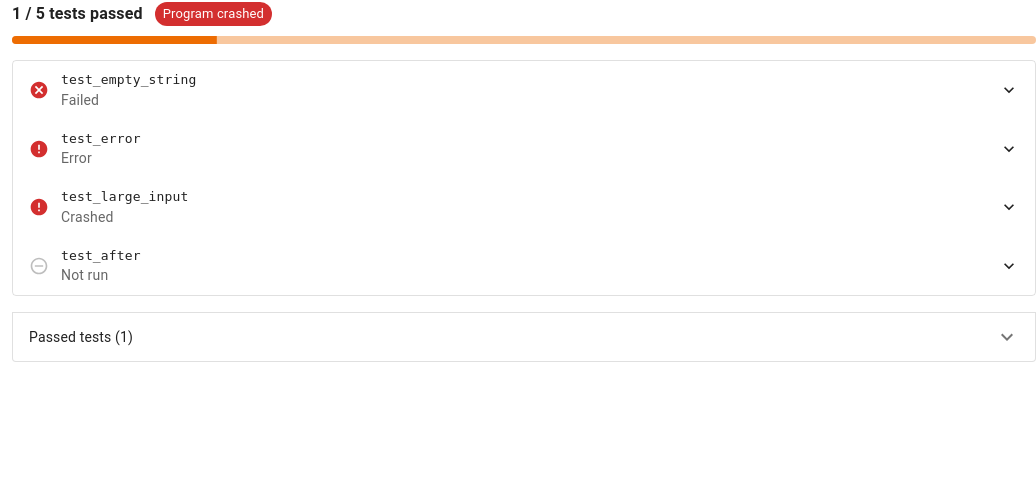
TestReportView › explains crashed, error and not-run tests
Click the text "test_large_input".
click(125, 197)  # box [61,189,188,204]
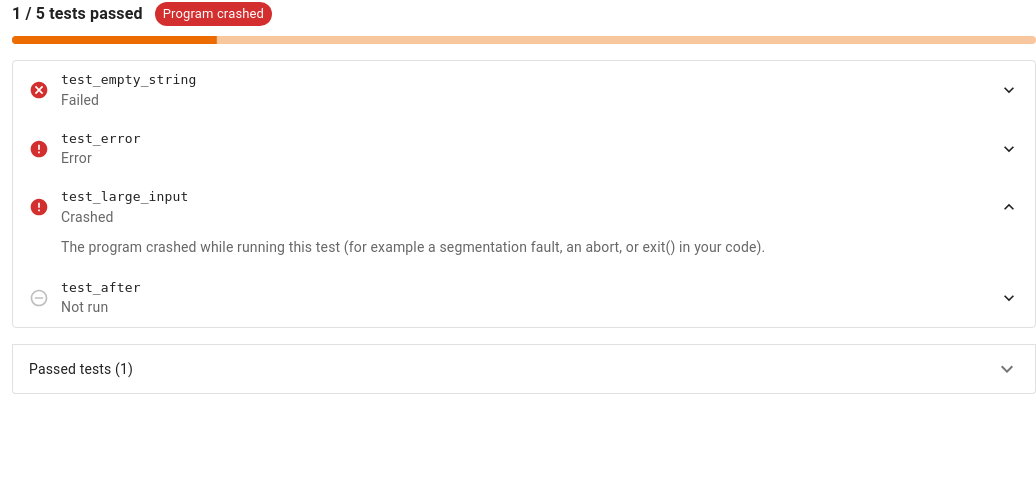
Click the text "test_after".
click(101, 287)  # box [61,280,141,295]
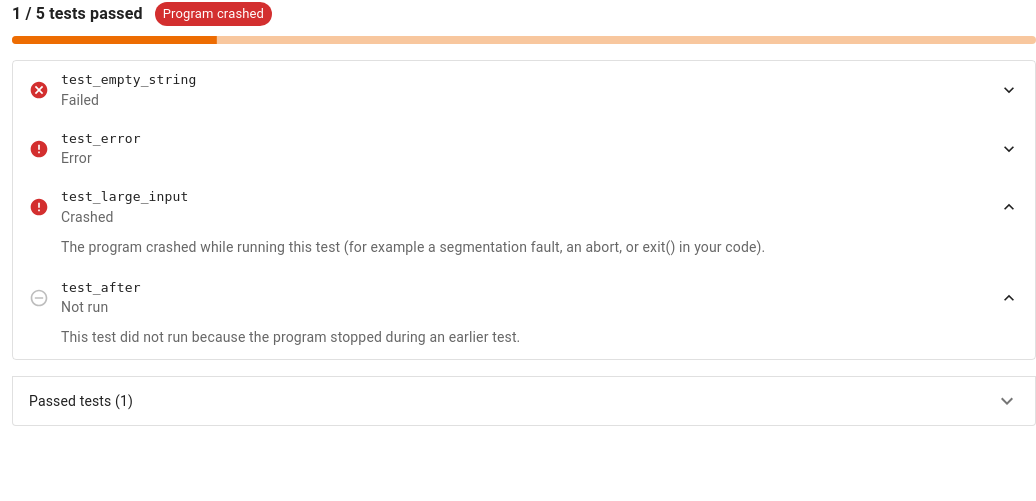
Click the text "test_error".
click(101, 138)  # box [61,131,141,146]
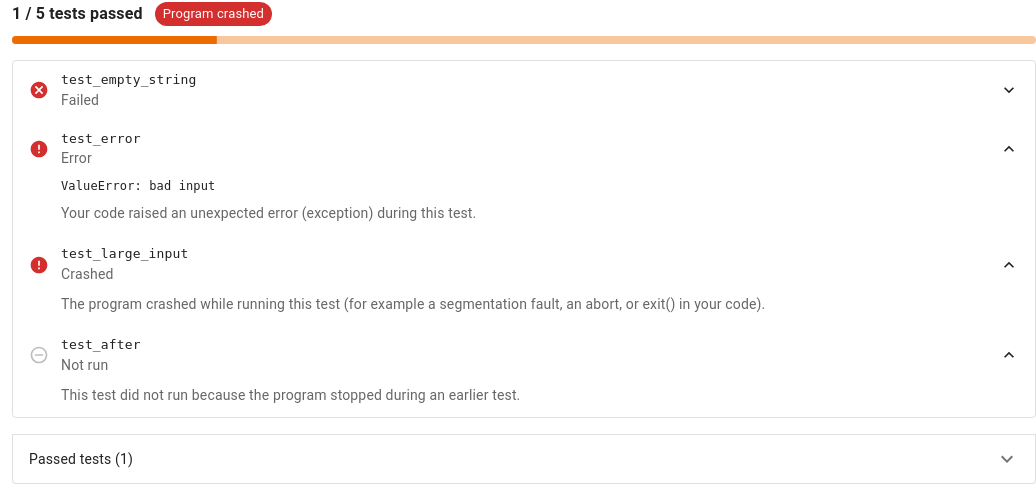
Check: the text "crashed while running this test" is shown, box [61,296,765,312]
Check: the text "did not run because the program stopped" is shown, box [61,387,520,403]
Check: the text "ValueError: bad input" is shown, box [61,179,215,193]
